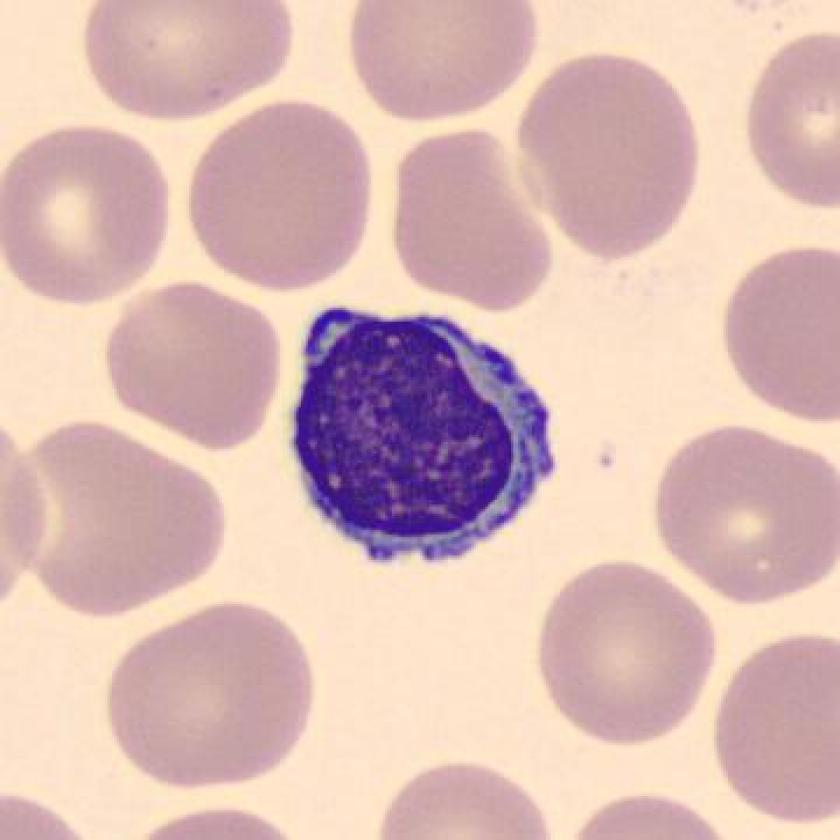lymphocyte: (276, 293, 575, 584)
